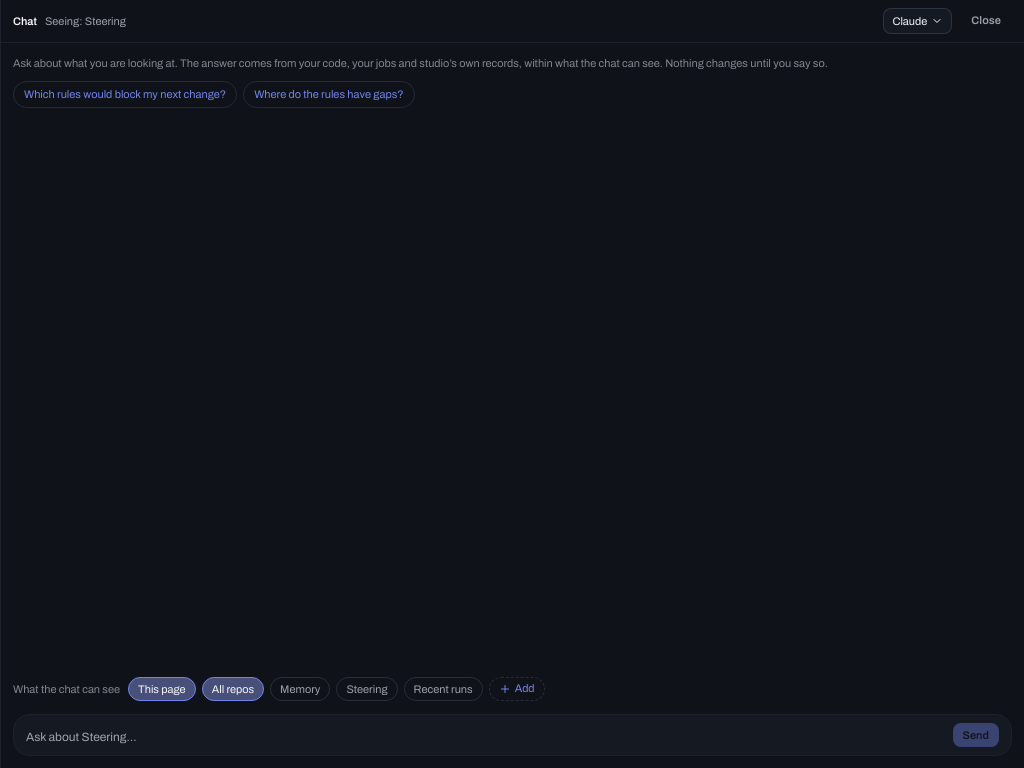
it: the chat-launch wire — the GroupChat seat machinery, one warm session › a fully-failed open surfaces as an honest failure note, naming the seats
Type "hello?" into the text box with test id "assist-input". click: (485, 737)
box: [26, 727, 944, 747]
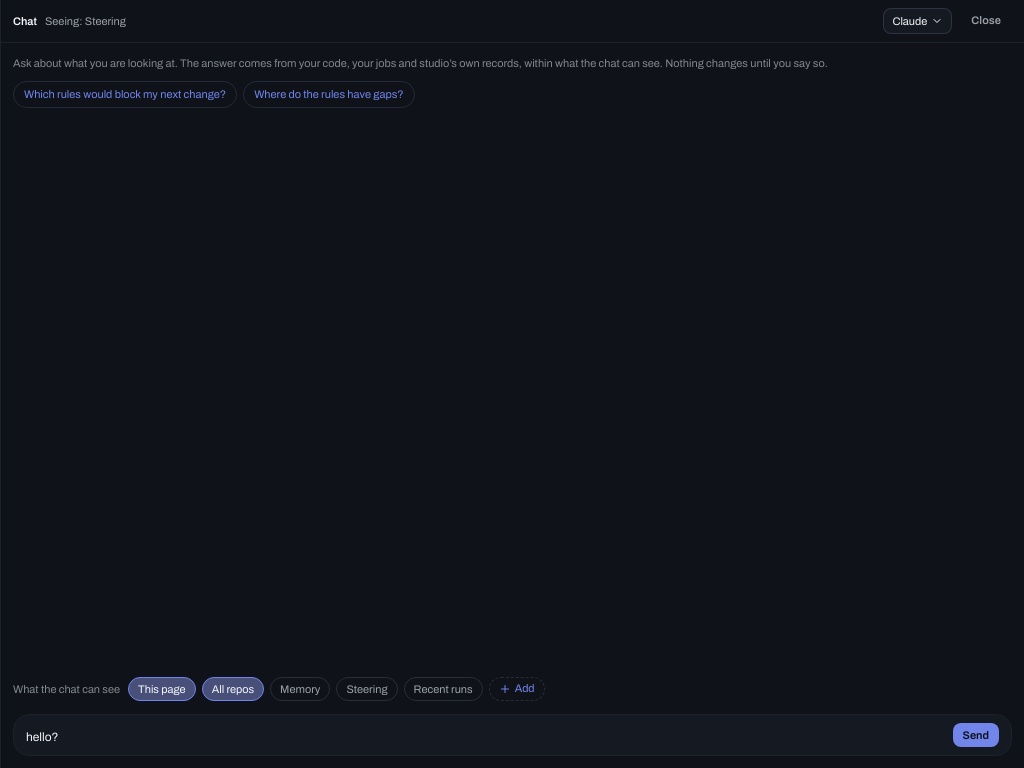
Click the button with test id "assist-send". click: (976, 735)
box: [952, 722, 999, 747]
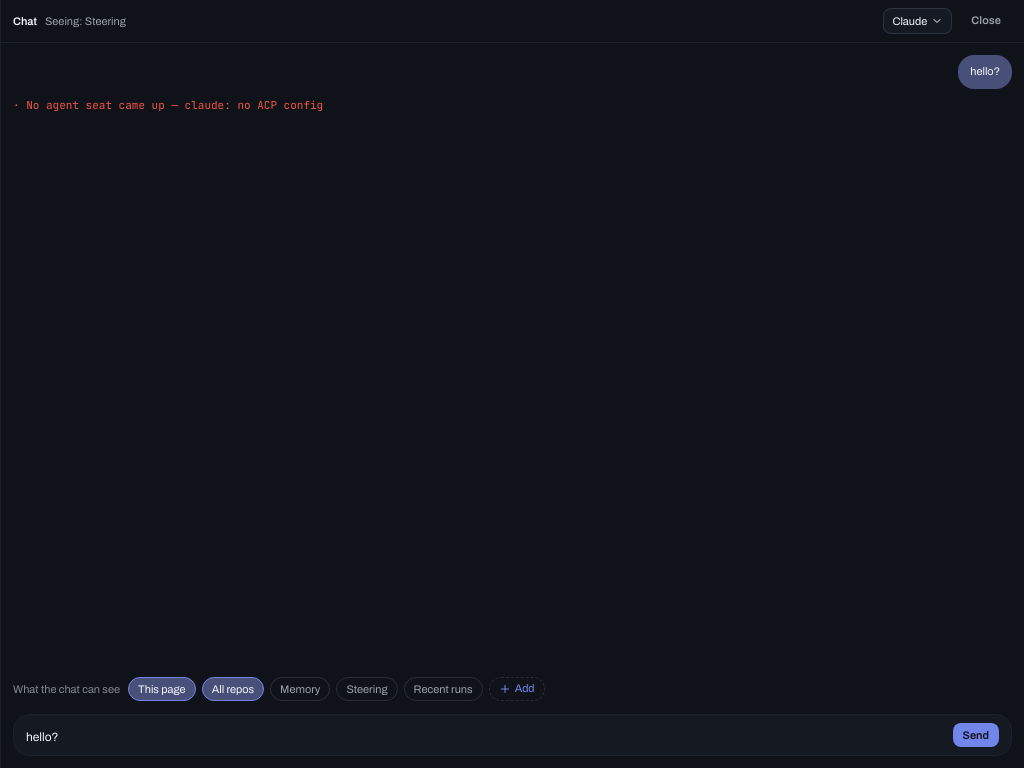
Now the text with test id "assist-note" shows "No agent seat came up — claude: no ACP config", box [26, 98, 323, 112]
